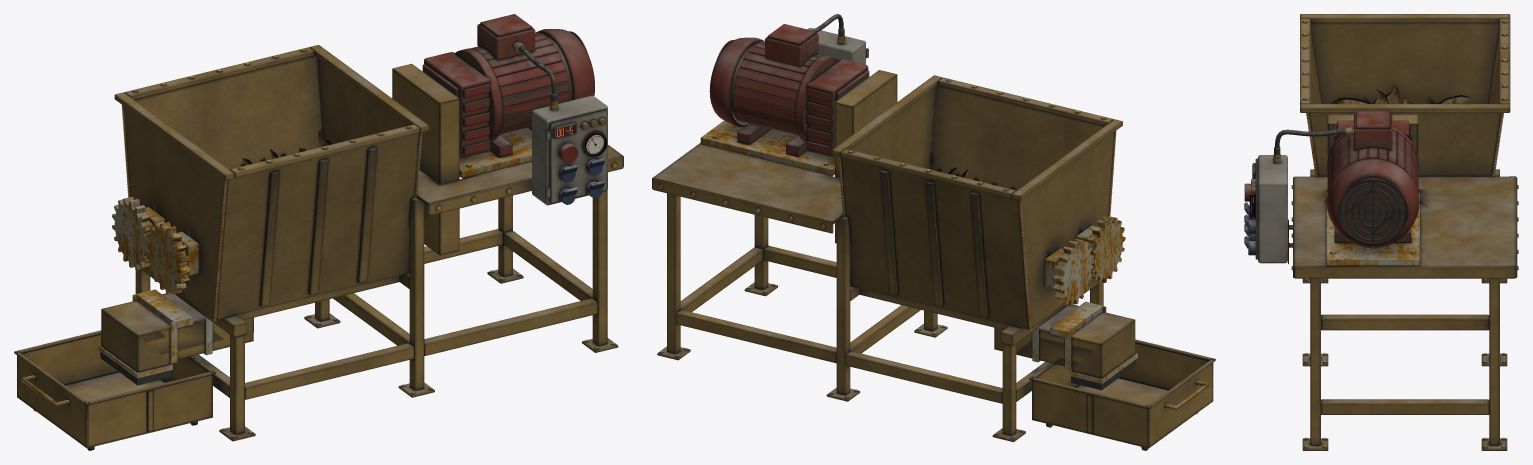
The model's file is ogutucu.glb.
3 renders of one model, left to right at view 1: azimuth 30°, elevation 25°; view 2: azimuth 150°, elevation 25°; view 3: azimuth 270°, elevation 25°, orthographic. The views are drawn at different scales.
Parts seen in each view (by area): view 1: Pisir_Govde, Pisir_Toplama, Pisir_RotorA, Pisir_RotorB; view 2: Pisir_Govde, Pisir_Toplama, Pisir_RotorB, Pisir_RotorA; view 3: Pisir_Govde, Pisir_RotorA.
Boxes of the visible parts, <box> form: Pisir_Govde: <box>98,14,623,441</box>; Pisir_Toplama: <box>14,330,215,450</box>; Pisir_RotorA: <box>145,221,190,294</box>; Pisir_RotorB: <box>112,139,332,269</box>; Pisir_Govde: <box>652,14,1137,441</box>; Pisir_Toplama: <box>1029,339,1215,450</box>; Pisir_RotorB: <box>1053,238,1093,306</box>; Pisir_RotorA: <box>937,167,1125,283</box>; Pisir_Govde: <box>1244,14,1518,450</box>; Pisir_RotorA: <box>1331,85,1399,103</box>.
Size of the model in its own units: 2.7 by 1.54 by 1.29.
9 materials, 4 textured.
